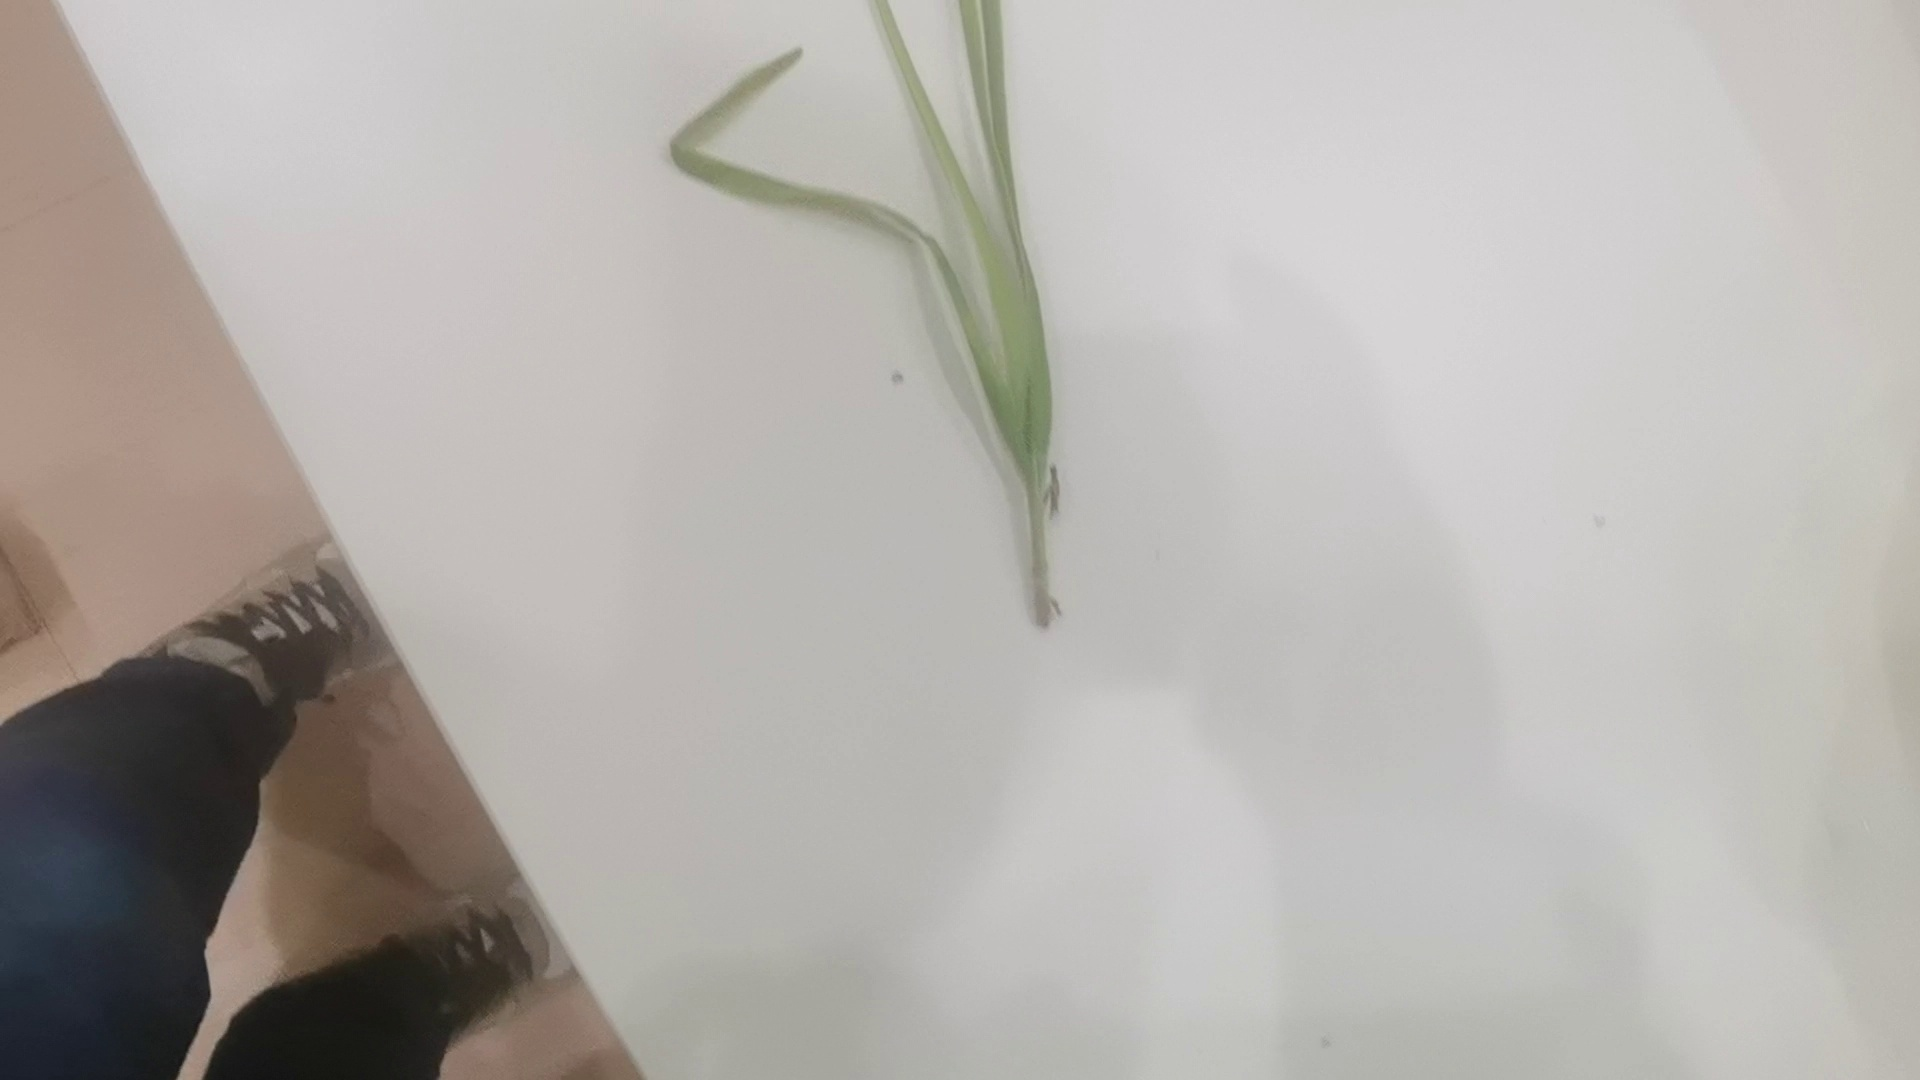chives: (670, 7, 1077, 641)
